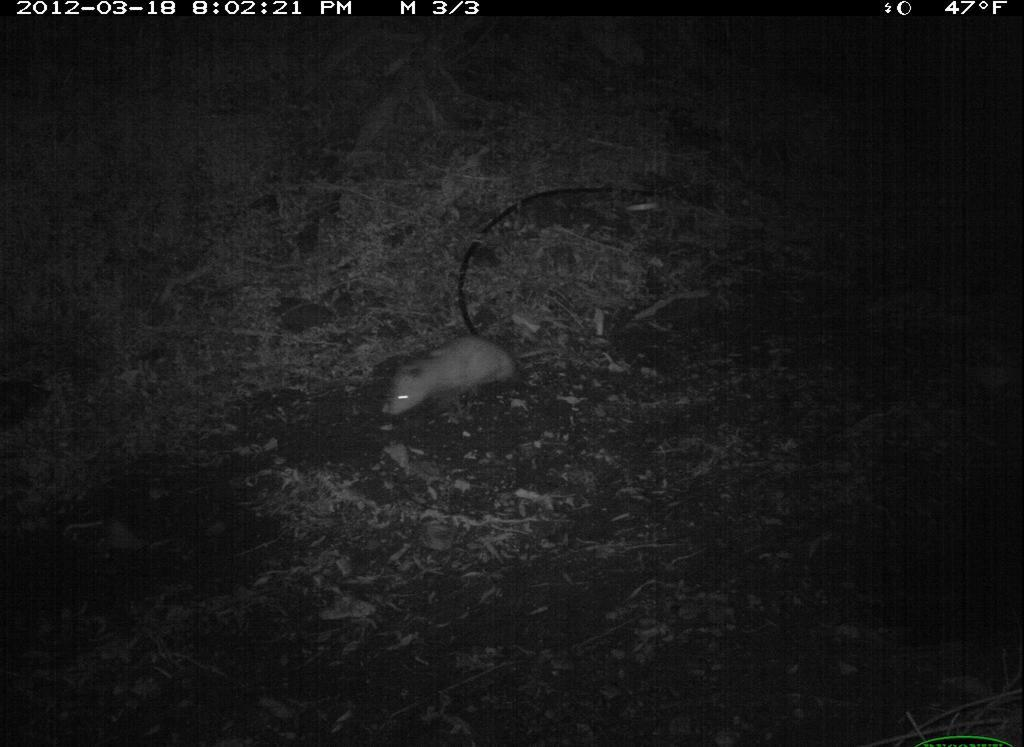opossum: (369, 317, 562, 436)
